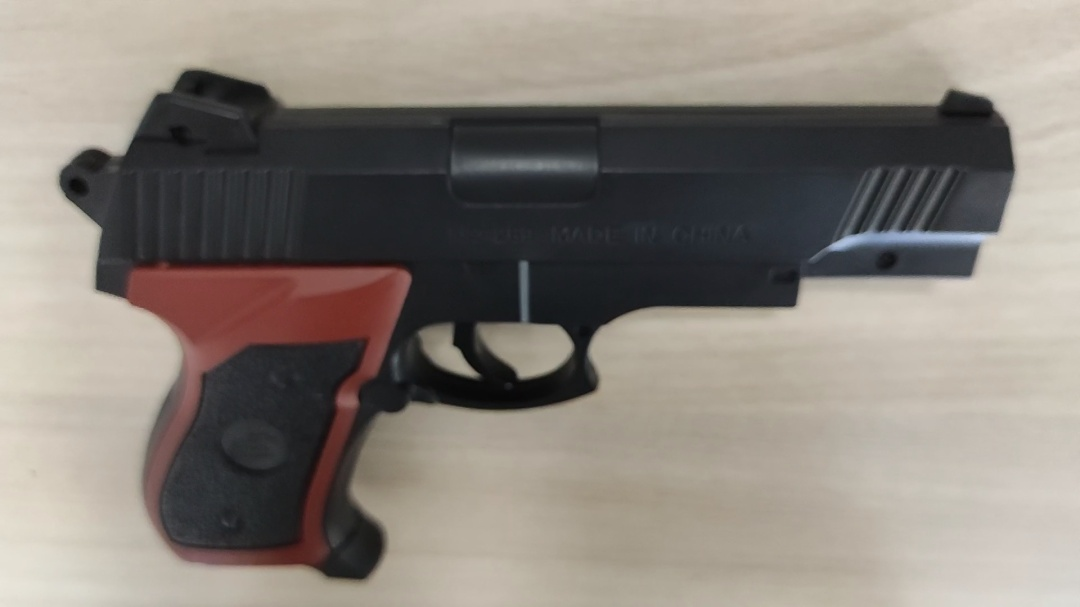gun: (59, 66, 1014, 582)
